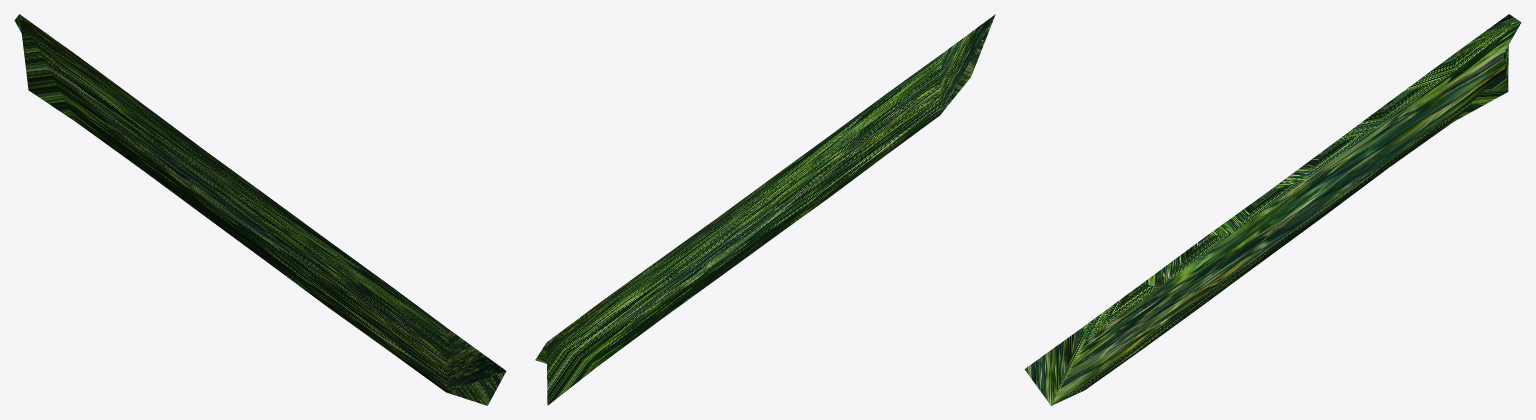
3 renders of one model, left to right at view 1: azimuth 30°, elevation 25°; view 2: azimuth 150°, elevation 25°; view 3: azimuth 330°, elevation 25°, orthographic. The views are drawn at different scales.
Parts seen in each view (by area): view 1: algae_cube_Cube; view 2: algae_cube_Cube; view 3: algae_cube_Cube.
Boxes of the visible parts, left/top/right/bottom form: algae_cube_Cube: left=14, top=14, right=506, bottom=405; algae_cube_Cube: left=535, top=14, right=995, bottom=405; algae_cube_Cube: left=1024, top=14, right=1521, bottom=405.
Bounding box in the file's own units: 0.00906 × 0.1527 × 1.85.
